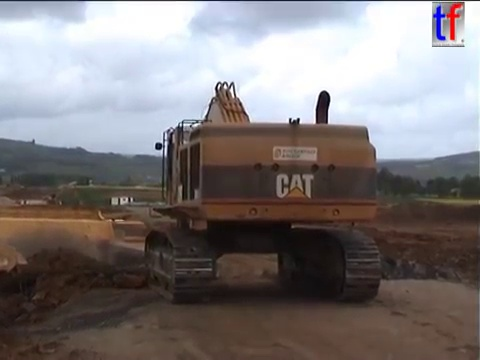excavator: (140, 77, 385, 305), (41, 182, 87, 209)
truck: (1, 205, 182, 336), (96, 215, 182, 273)
